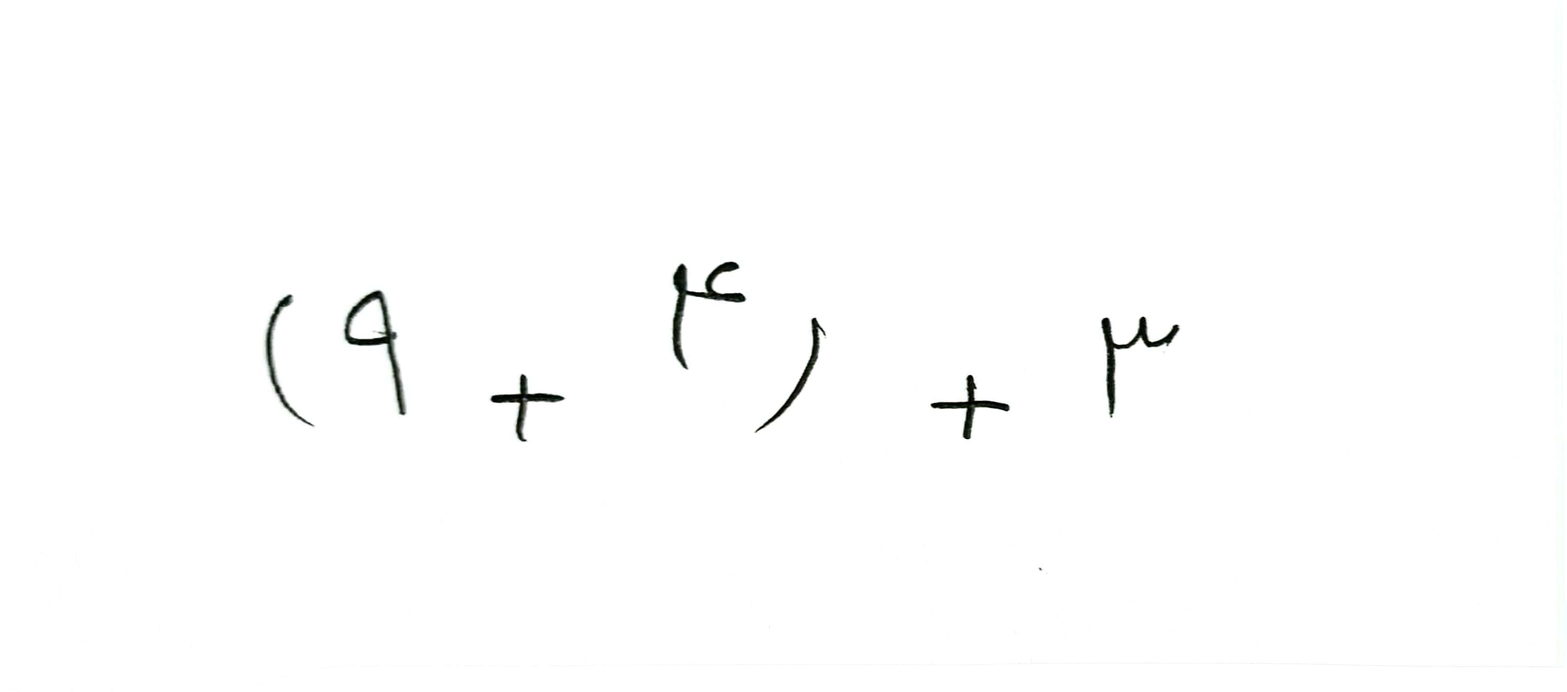character: (671, 259, 747, 372), (1102, 318, 1179, 422), (345, 290, 407, 417), (757, 318, 824, 434), (266, 295, 316, 429), (931, 373, 1011, 440), (491, 375, 564, 444)
